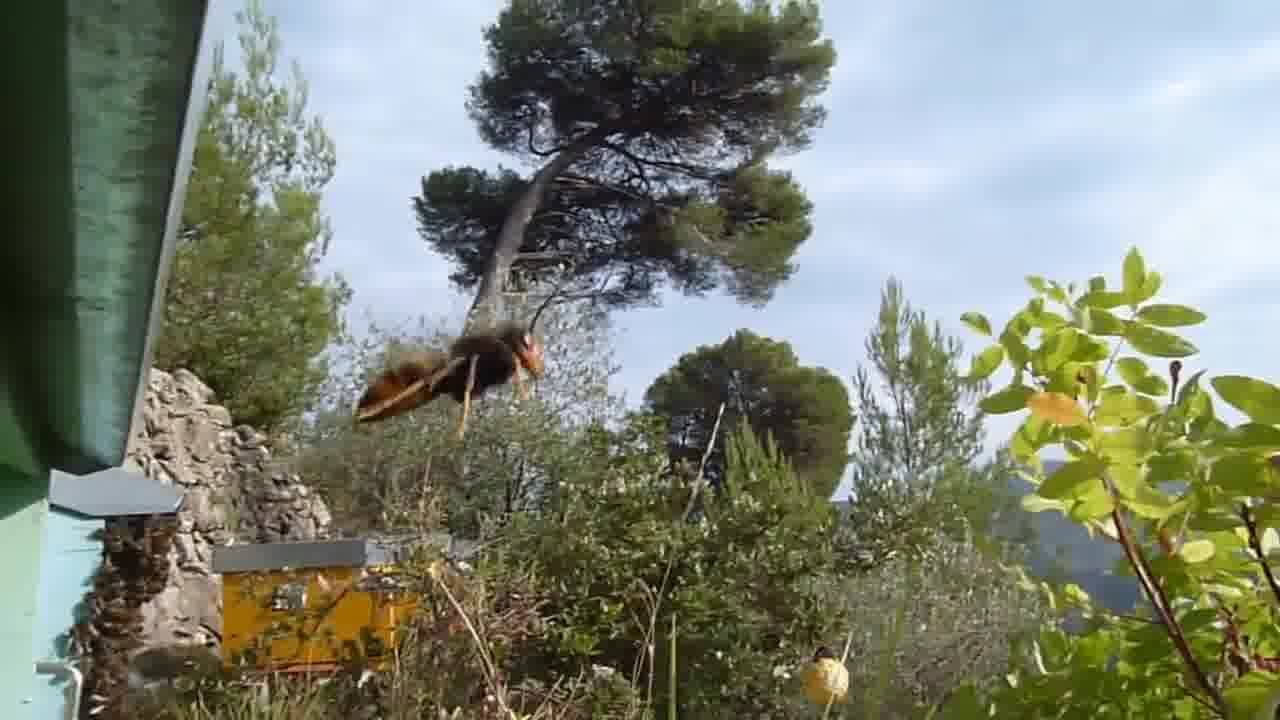bee: (69, 590, 142, 712), (96, 520, 179, 599)
hornet: (340, 306, 554, 433)
